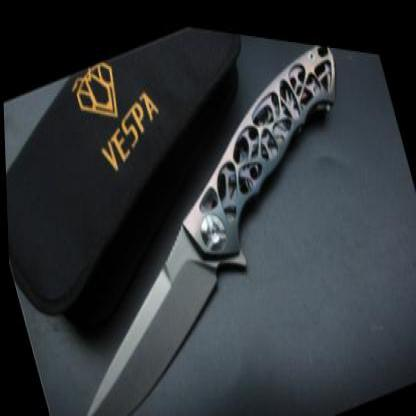knife: (17, 149, 280, 413)
